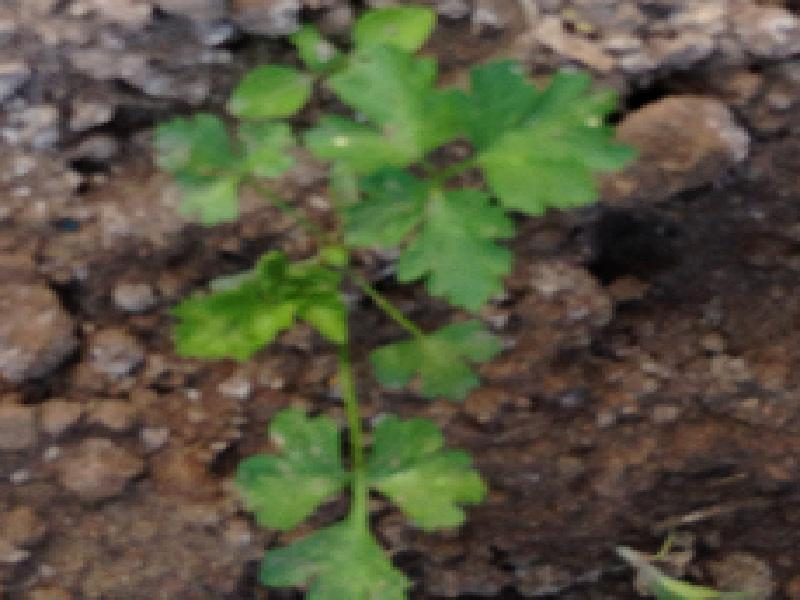radish: (0, 90, 747, 600)
